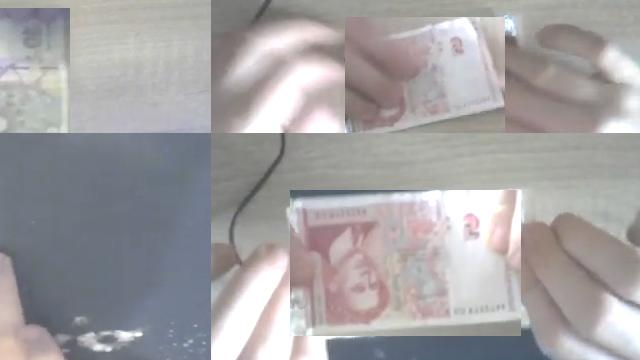10leva: (0, 18, 70, 133)
5leva: (290, 190, 521, 336), (345, 17, 505, 133)
